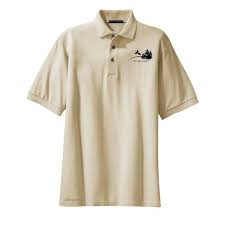S_polo shirt: (31, 8, 195, 208)
